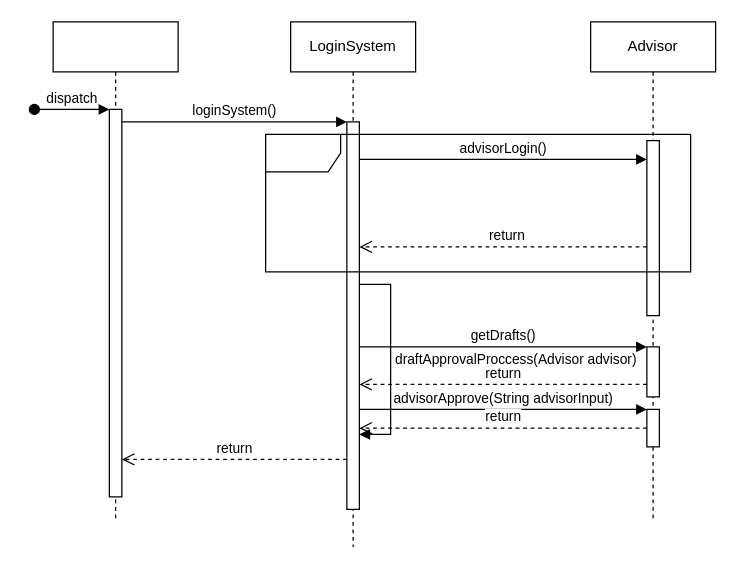
The diagram is 738 pixels wide and 569 high, and some of its shapes have lost their labels. Each missing label, with the box of its shape:
LOOP: (264, 133, 691, 272)
Main: (52, 21, 178, 522)
